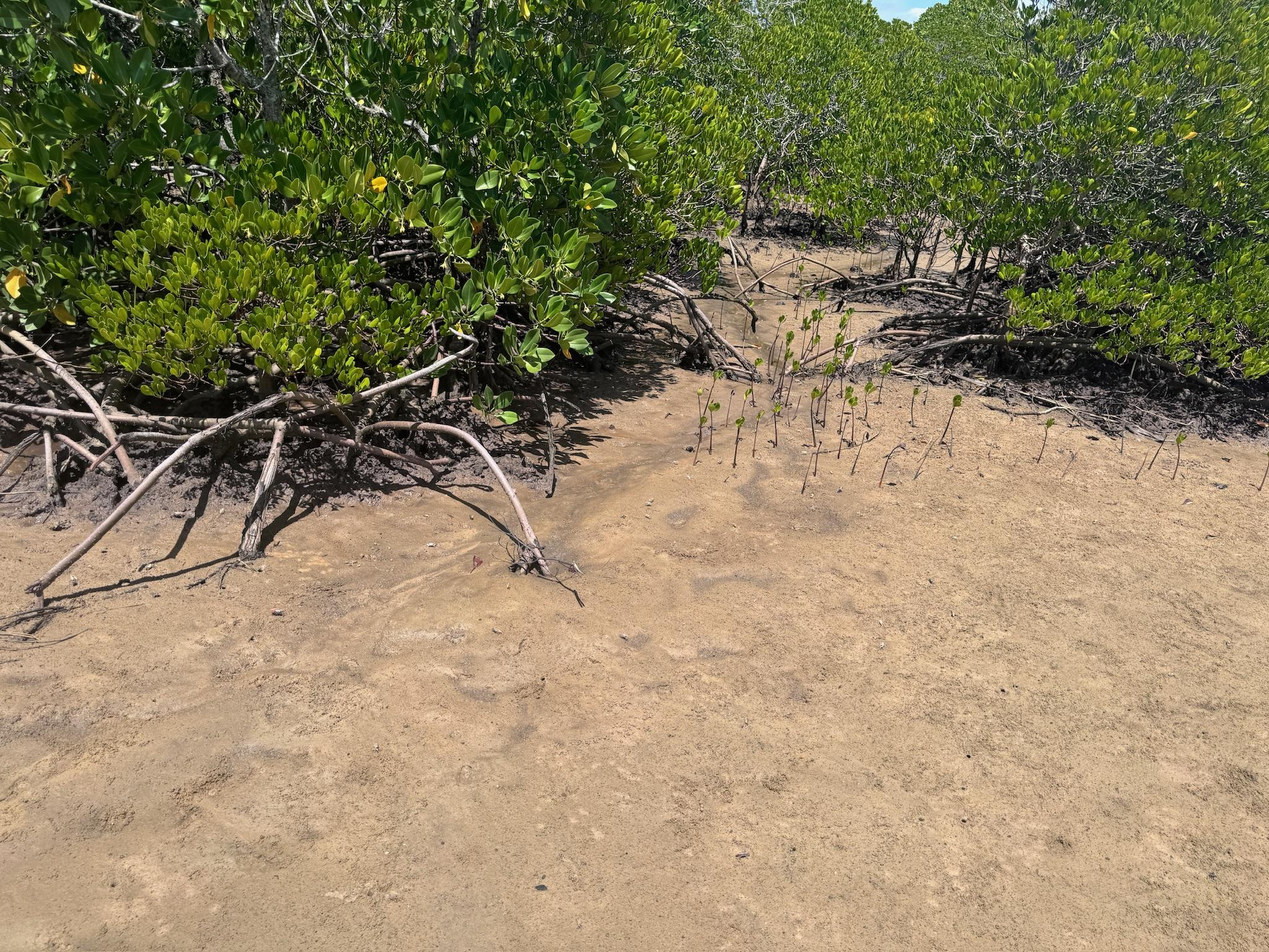Tree: (878, 446, 906, 488), (802, 311, 826, 356), (703, 369, 724, 415), (915, 438, 939, 478), (818, 358, 841, 399), (815, 361, 832, 416), (778, 330, 794, 387), (942, 395, 962, 439), (771, 315, 788, 365), (851, 431, 870, 474), (802, 335, 820, 380), (1037, 418, 1055, 462), (822, 363, 834, 428), (840, 345, 854, 397), (693, 417, 708, 465), (810, 387, 822, 447), (1172, 432, 1187, 480), (779, 348, 793, 399), (839, 386, 854, 432), (786, 359, 801, 405), (1135, 446, 1154, 480), (709, 400, 721, 453), (770, 402, 784, 446), (752, 410, 765, 457), (733, 417, 745, 467), (1149, 436, 1167, 469), (878, 362, 892, 402), (771, 340, 783, 385), (742, 299, 755, 340), (835, 315, 848, 355), (816, 289, 827, 336), (767, 335, 780, 374), (802, 453, 814, 495), (800, 317, 812, 359), (849, 396, 859, 443), (864, 382, 877, 418), (838, 418, 849, 459), (840, 312, 851, 352), (1062, 452, 1079, 477), (910, 387, 921, 425), (1259, 452, 1269, 491), (832, 333, 845, 361), (726, 389, 735, 427), (741, 389, 753, 417), (810, 309, 818, 351), (697, 390, 703, 441), (814, 441, 823, 475), (805, 231, 817, 256), (796, 243, 806, 273), (879, 244, 889, 270), (848, 307, 856, 338), (902, 286, 909, 315), (796, 287, 802, 320), (1120, 414, 1125, 453), (799, 265, 804, 304), (825, 242, 833, 265), (793, 289, 801, 311), (803, 291, 810, 316), (923, 381, 930, 403), (869, 240, 874, 270), (864, 242, 870, 267), (719, 301, 724, 330), (950, 428, 954, 460), (786, 281, 791, 300), (859, 252, 864, 268), (853, 248, 856, 267)
